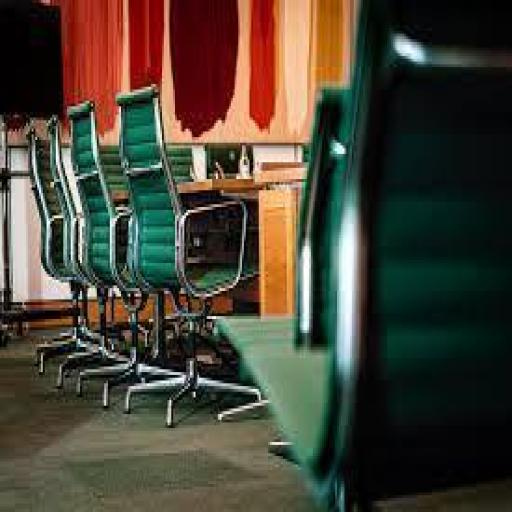chair: (111, 84, 271, 425), (63, 92, 151, 406), (24, 112, 102, 386)
